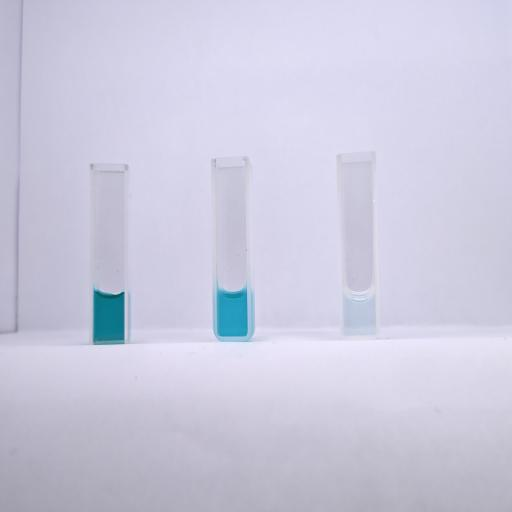cuvette: (334, 150, 380, 342), (209, 153, 253, 343), (88, 161, 131, 344)
liquid: (92, 290, 124, 340), (217, 288, 247, 336), (343, 290, 375, 334)
